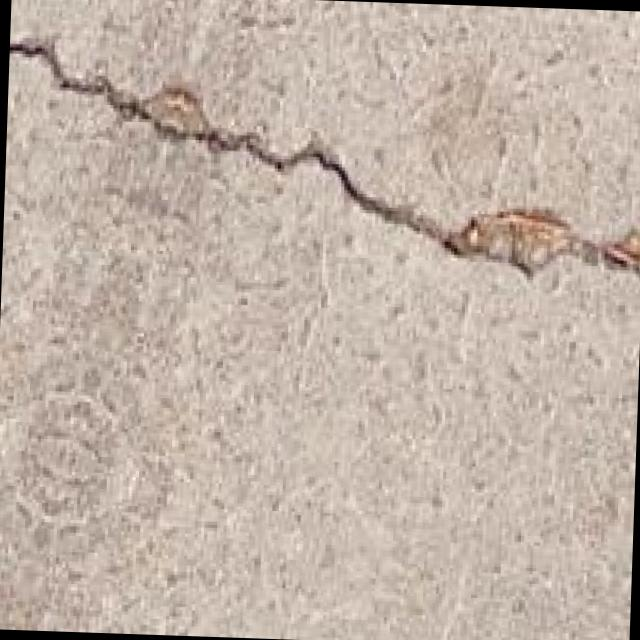crack: (3, 0, 640, 337)
